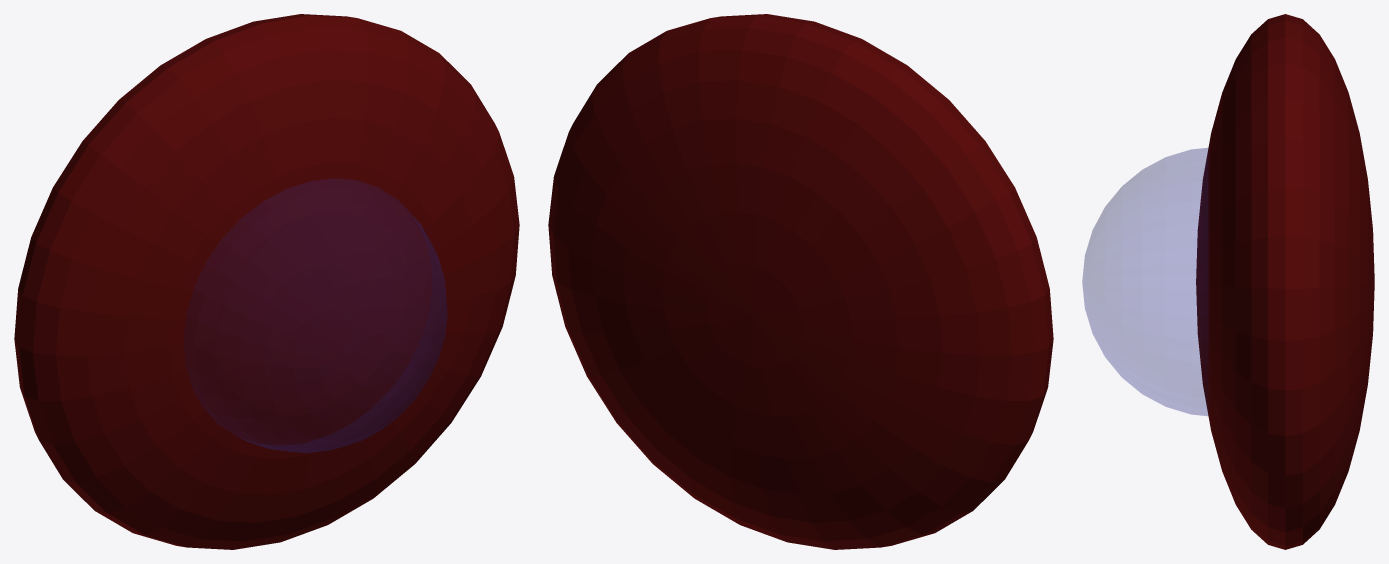
File: EnemyUfo2.dae
3 views of the same model, side by side, from view 1: azimuth 30°, elevation 25°; view 2: azimuth 150°, elevation 25°; view 3: azimuth 270°, elevation 25° (orthographic). The views are drawn at different scales.
Visible parts, largest first — view 1: Sphere, Sphere_001; view 2: Sphere; view 3: Sphere, Sphere_001.
Boxes of the visible parts, bbox=[...] form: Sphere: bbox=[14, 14, 519, 549]; Sphere_001: bbox=[184, 179, 447, 452]; Sphere: bbox=[548, 14, 1053, 549]; Sphere: bbox=[1196, 14, 1374, 549]; Sphere_001: bbox=[1082, 148, 1208, 415].
Size of the model in its own units: 2.29 by 2.29 by 1.25.
